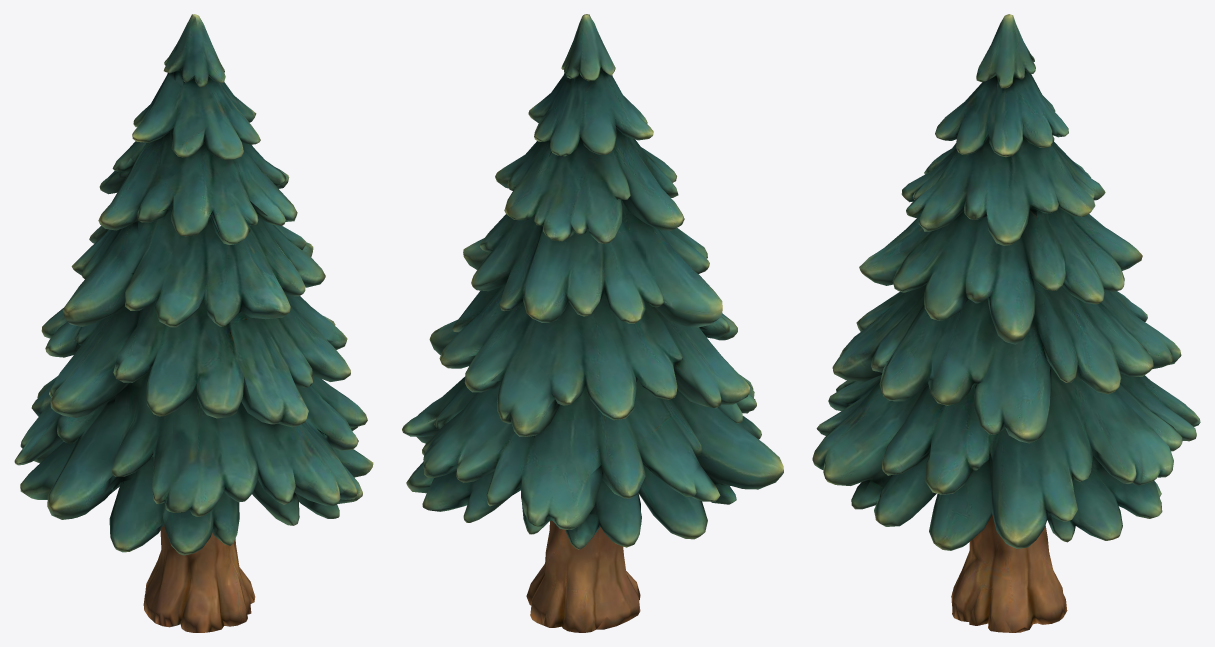
The model's file is fir_tree.glb.
3 renders of one model, left to right at view 1: azimuth 30°, elevation 25°; view 2: azimuth 150°, elevation 25°; view 3: azimuth 270°, elevation 25°, orthographic.
Visible parts, largest first — view 1: fir_tree; view 2: fir_tree; view 3: fir_tree.
Part boxes in pixels (x1,y1,x2,y2): fir_tree: [14, 14, 373, 632]; fir_tree: [402, 14, 783, 632]; fir_tree: [812, 14, 1200, 632].
Size of the model in its own units: 1.44 by 2.4 by 1.42.
1 material, 1 textured.
